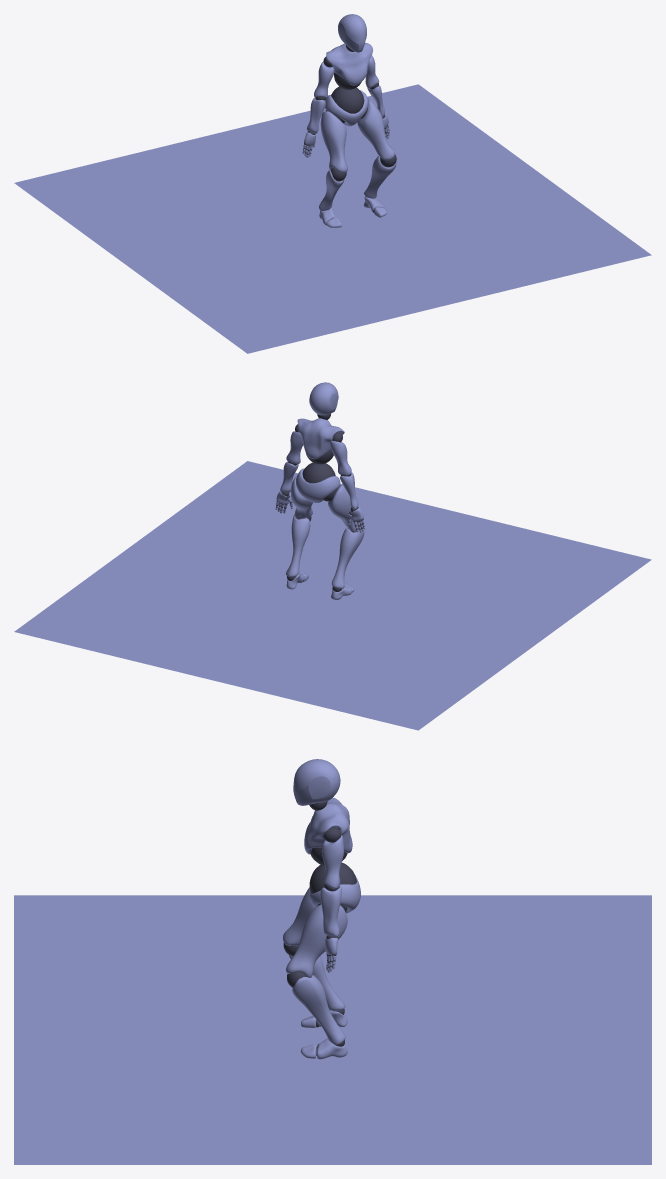
3 views of the same model, one above another, from view 1: azimuth 30°, elevation 25°; view 2: azimuth 150°, elevation 25°; view 3: azimuth 270°, elevation 25° (orthographic). The views are drawn at different scales.
Visible parts, largest first — view 1: Beta_Joints.001; view 2: Beta_Joints.001; view 3: Beta_Joints.001.
Boxes of the visible parts, bbox=[...] form: Beta_Joints.001: bbox=[14, 14, 651, 353]; Beta_Joints.001: bbox=[14, 382, 651, 730]; Beta_Joints.001: bbox=[14, 759, 651, 1164].
Bounding box in the file's own units: 3.41 × 1.64 × 3.41.
